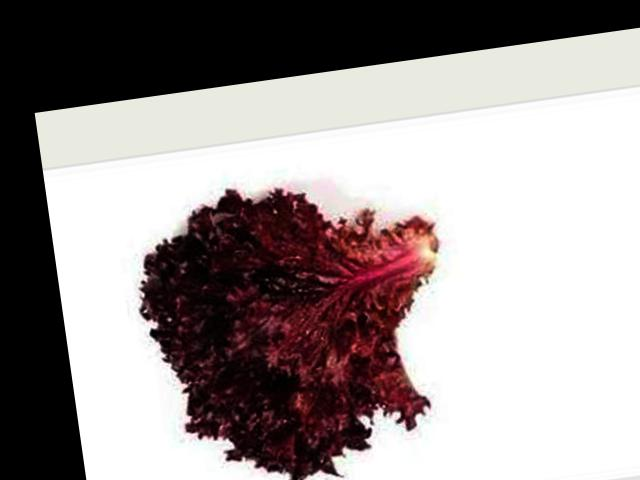lettuce: (421, 170, 544, 444)
